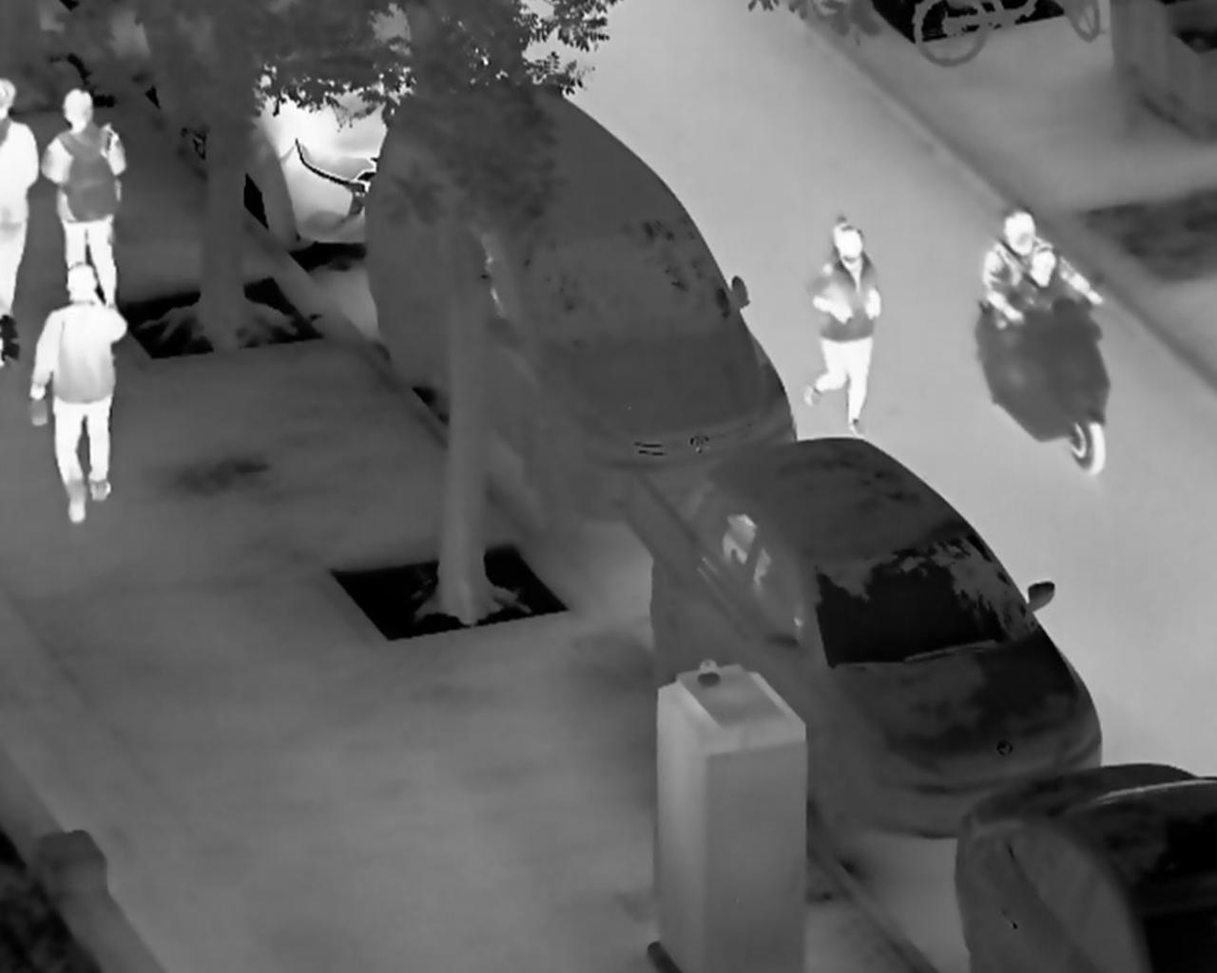person: (26, 260, 129, 528), (39, 86, 126, 313), (971, 202, 1110, 328), (805, 211, 879, 434), (2, 76, 44, 365), (1003, 238, 1089, 320)
